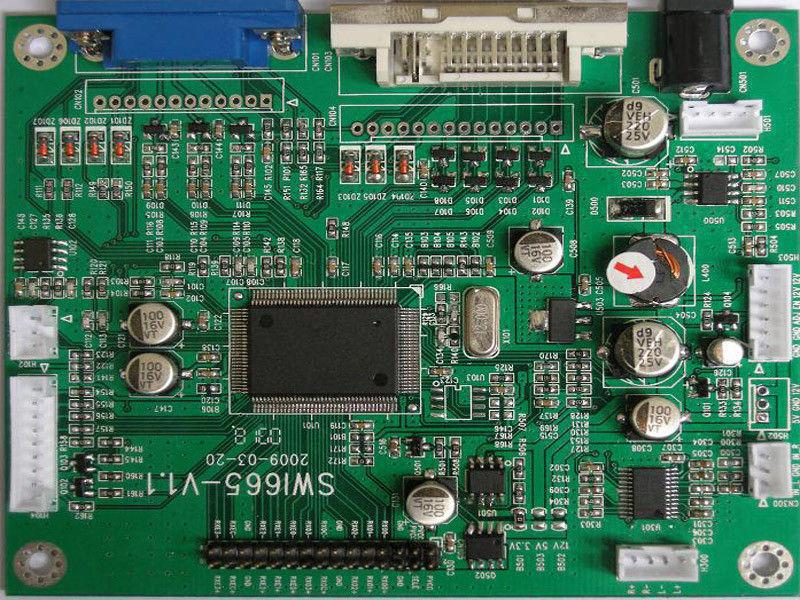SMD capacitor: (643, 178, 671, 192), (140, 177, 155, 203), (242, 177, 256, 204), (577, 272, 592, 296), (674, 155, 700, 168), (485, 255, 497, 282), (200, 177, 213, 201), (388, 254, 400, 279), (290, 255, 302, 280), (533, 398, 560, 409), (229, 179, 243, 200), (644, 169, 670, 180), (404, 255, 415, 280), (373, 256, 385, 278), (490, 384, 513, 395), (263, 142, 274, 165), (350, 421, 373, 432), (156, 180, 168, 201), (578, 461, 606, 470), (199, 308, 208, 334), (200, 355, 221, 366), (161, 290, 184, 300), (329, 256, 339, 279), (198, 368, 219, 378), (187, 176, 195, 198)
SMD resistor: (448, 435, 463, 461), (66, 424, 95, 437), (98, 437, 124, 451), (67, 501, 94, 514), (158, 262, 187, 274), (513, 458, 528, 481), (96, 277, 109, 303), (280, 142, 293, 168), (229, 155, 242, 180), (566, 347, 591, 360), (98, 176, 110, 203), (44, 179, 56, 206), (197, 255, 211, 278), (81, 277, 95, 300), (563, 374, 592, 385), (197, 382, 221, 395), (68, 372, 94, 384), (279, 119, 292, 143), (534, 358, 558, 371), (66, 438, 94, 449), (218, 255, 231, 278), (513, 482, 526, 505), (565, 360, 594, 370), (443, 253, 455, 277), (568, 397, 592, 409), (201, 155, 214, 177), (261, 118, 273, 141), (327, 218, 339, 240), (470, 254, 481, 278), (53, 277, 65, 299), (298, 142, 310, 164), (130, 290, 156, 300), (98, 455, 121, 466), (244, 154, 255, 177), (66, 399, 94, 408), (111, 179, 123, 200), (568, 385, 589, 397), (70, 350, 95, 360), (97, 471, 124, 480), (315, 143, 327, 163), (489, 399, 513, 409), (69, 388, 95, 397), (68, 413, 94, 422), (297, 118, 308, 139), (458, 256, 468, 279), (68, 362, 91, 372), (315, 115, 325, 138), (434, 436, 444, 458), (490, 411, 514, 420), (432, 256, 442, 277), (537, 384, 558, 394), (142, 155, 153, 174), (277, 256, 286, 279), (131, 277, 154, 286), (64, 179, 73, 202), (261, 256, 271, 276), (419, 256, 429, 276), (157, 157, 167, 177), (189, 155, 198, 177), (102, 490, 121, 500), (539, 373, 557, 383)
diode: (365, 147, 384, 185), (340, 147, 357, 184), (396, 148, 411, 188), (62, 129, 79, 164), (36, 133, 53, 163), (89, 129, 102, 161), (115, 127, 127, 161)
electrolytic capacitor: (613, 319, 684, 384), (598, 97, 670, 160), (402, 479, 458, 529), (124, 353, 184, 399), (627, 397, 686, 443), (510, 227, 564, 277), (126, 306, 181, 347)
inductor_chunk: (618, 237, 696, 305)
